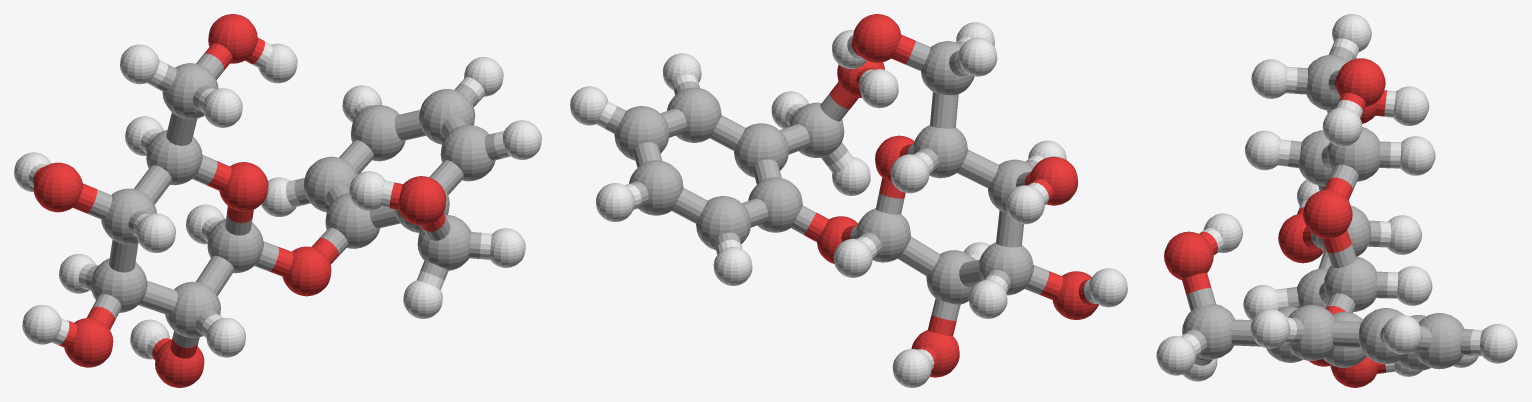
The model's file is Salicin.fbx.
The picture shows the model from 3 angles, left to right: view 1: azimuth 30°, elevation 25°; view 2: azimuth 150°, elevation 25°; view 3: azimuth 270°, elevation 25°; orthographic projection.
Visible parts, largest first — view 1: Shape_Sphere.016, Shape_Sphere.018, Shape_Sphere.003, Shape_Sphere.006, Shape_Sphere.010, Shape_Sphere.011, Shape_Sphere.019, Shape_Sphere.009, Shape_Sphere.007, Shape_Sphere.017, Shape_Sphere.012, Shape_Sphere.001 (+37 smaller); view 2: Shape_Sphere.018, Shape_Sphere.019, Shape_Sphere.015, Shape_Sphere.016, Shape_Sphere.014, Shape_Sphere.013, Shape_Sphere.005, Shape_Sphere.017, Shape_Sphere.010, Shape_Sphere.011, Shape_Sphere.007, Shape_Sphere.009 (+37 smaller); view 3: Shape_Sphere, Shape_Sphere.011, Shape_Sphere.018, Shape_Sphere.016, Shape_Sphere.017, Shape_Sphere.006, Shape_Sphere.005, Shape_Sphere.010, Shape_Sphere.019, Shape_Sphere.012, Shape_Sphere.008, Shape_Sphere.036 (+31 smaller).
Boxes of the visible parts, left/top/right/bottom form: Shape_Sphere.016: left=440, top=125, right=495, bottom=181; Shape_Sphere.018: left=351, top=105, right=405, bottom=161; Shape_Sphere.003: left=33, top=162, right=82, bottom=212; Shape_Sphere.006: left=398, top=176, right=446, bottom=225; Shape_Sphere.010: left=146, top=130, right=202, bottom=185; Shape_Sphere.011: left=207, top=218, right=263, bottom=273; Shape_Sphere.019: left=419, top=89, right=475, bottom=144; Shape_Sphere.009: left=165, top=281, right=220, bottom=337; Shape_Sphere.007: left=91, top=258, right=146, bottom=312; Shape_Sphere.017: left=417, top=214, right=471, bottom=270; Shape_Sphere.012: left=162, top=63, right=218, bottom=119; Shape_Sphere.001: left=282, top=246, right=331, bottom=296; Shape_Sphere.018: left=629, top=160, right=683, bottom=215; Shape_Sphere.019: left=614, top=106, right=669, bottom=160; Shape_Sphere.015: left=696, top=196, right=750, bottom=250; Shape_Sphere.016: left=667, top=87, right=721, bottom=142; Shape_Sphere.014: left=734, top=123, right=788, bottom=177; Shape_Sphere.013: left=748, top=177, right=802, bottom=232; Shape_Sphere.005: left=853, top=14, right=901, bottom=62; Shape_Sphere.017: left=789, top=102, right=844, bottom=157; Shape_Sphere.010: left=913, top=125, right=967, bottom=178; Shape_Sphere.011: left=856, top=208, right=910, bottom=262; Shape_Sphere.007: left=978, top=242, right=1033, bottom=295; Shape_Sphere.009: left=926, top=250, right=974, bottom=304; Shape_Sphere: left=1303, top=189, right=1352, bottom=238; Shape_Sphere.011: left=1324, top=256, right=1377, bottom=311; Shape_Sphere.018: left=1414, top=313, right=1464, bottom=369; Shape_Sphere.016: left=1286, top=304, right=1336, bottom=360; Shape_Sphere.017: left=1182, top=304, right=1234, bottom=359; Shape_Sphere.006: left=1164, top=231, right=1213, bottom=279; Shape_Sphere.005: left=1336, top=58, right=1385, bottom=107; Shape_Sphere.010: left=1327, top=127, right=1380, bottom=181; Shape_Sphere.019: left=1359, top=308, right=1407, bottom=363; Shape_Sphere.012: left=1306, top=54, right=1348, bottom=110; Shape_Sphere.008: left=1298, top=130, right=1332, bottom=186; Shape_Sphere.036: left=1382, top=314, right=1422, bottom=354.
Bounding box in the file's own units: 1083 × 704 × 654.
